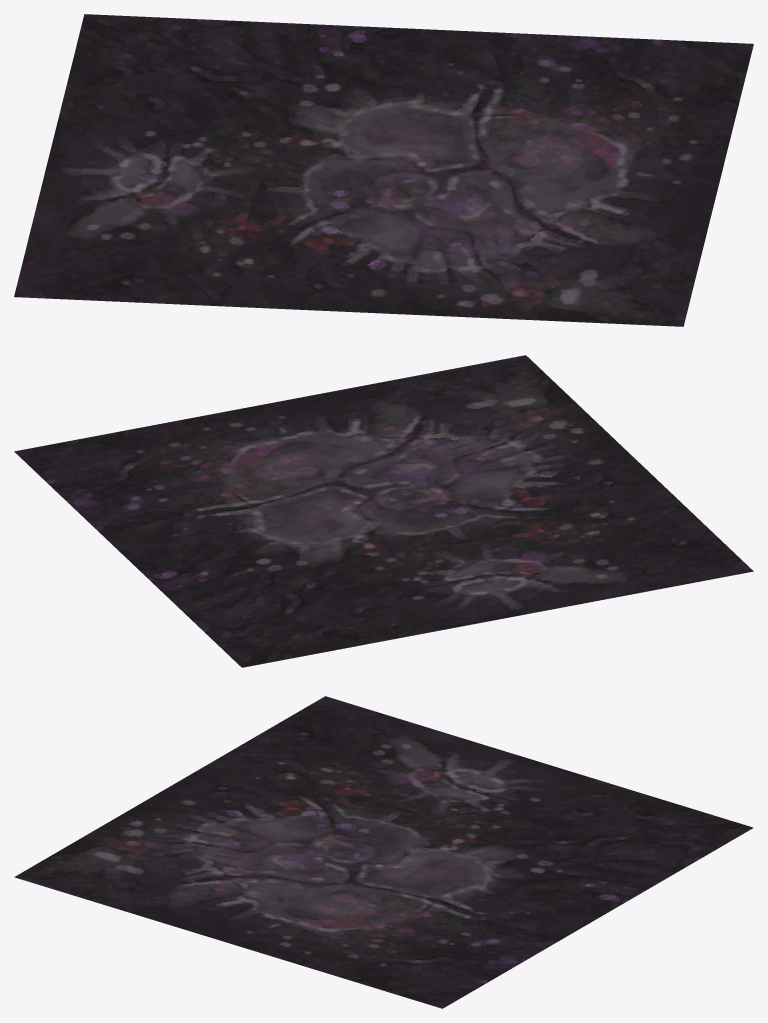
Rendered from cave_floor_mushrooms_27.fbx.
3 views of the same model, one above another, from view 1: azimuth 30°, elevation 25°; view 2: azimuth 150°, elevation 25°; view 3: azimuth 270°, elevation 25° (orthographic). The views are drawn at different scales.
Visible parts, largest first — view 1: cave_tileset/Floormushrooms_04_mat; view 2: cave_tileset/Floormushrooms_04_mat; view 3: cave_tileset/Floormushrooms_04_mat.
Part boxes in pixels (<box>): cave_tileset/Floormushrooms_04_mat: <box>14,14,753,326</box>; cave_tileset/Floormushrooms_04_mat: <box>14,355,753,667</box>; cave_tileset/Floormushrooms_04_mat: <box>14,696,753,1008</box>.
Size of the model in its own units: 2.34 by 0 by 2.34.
